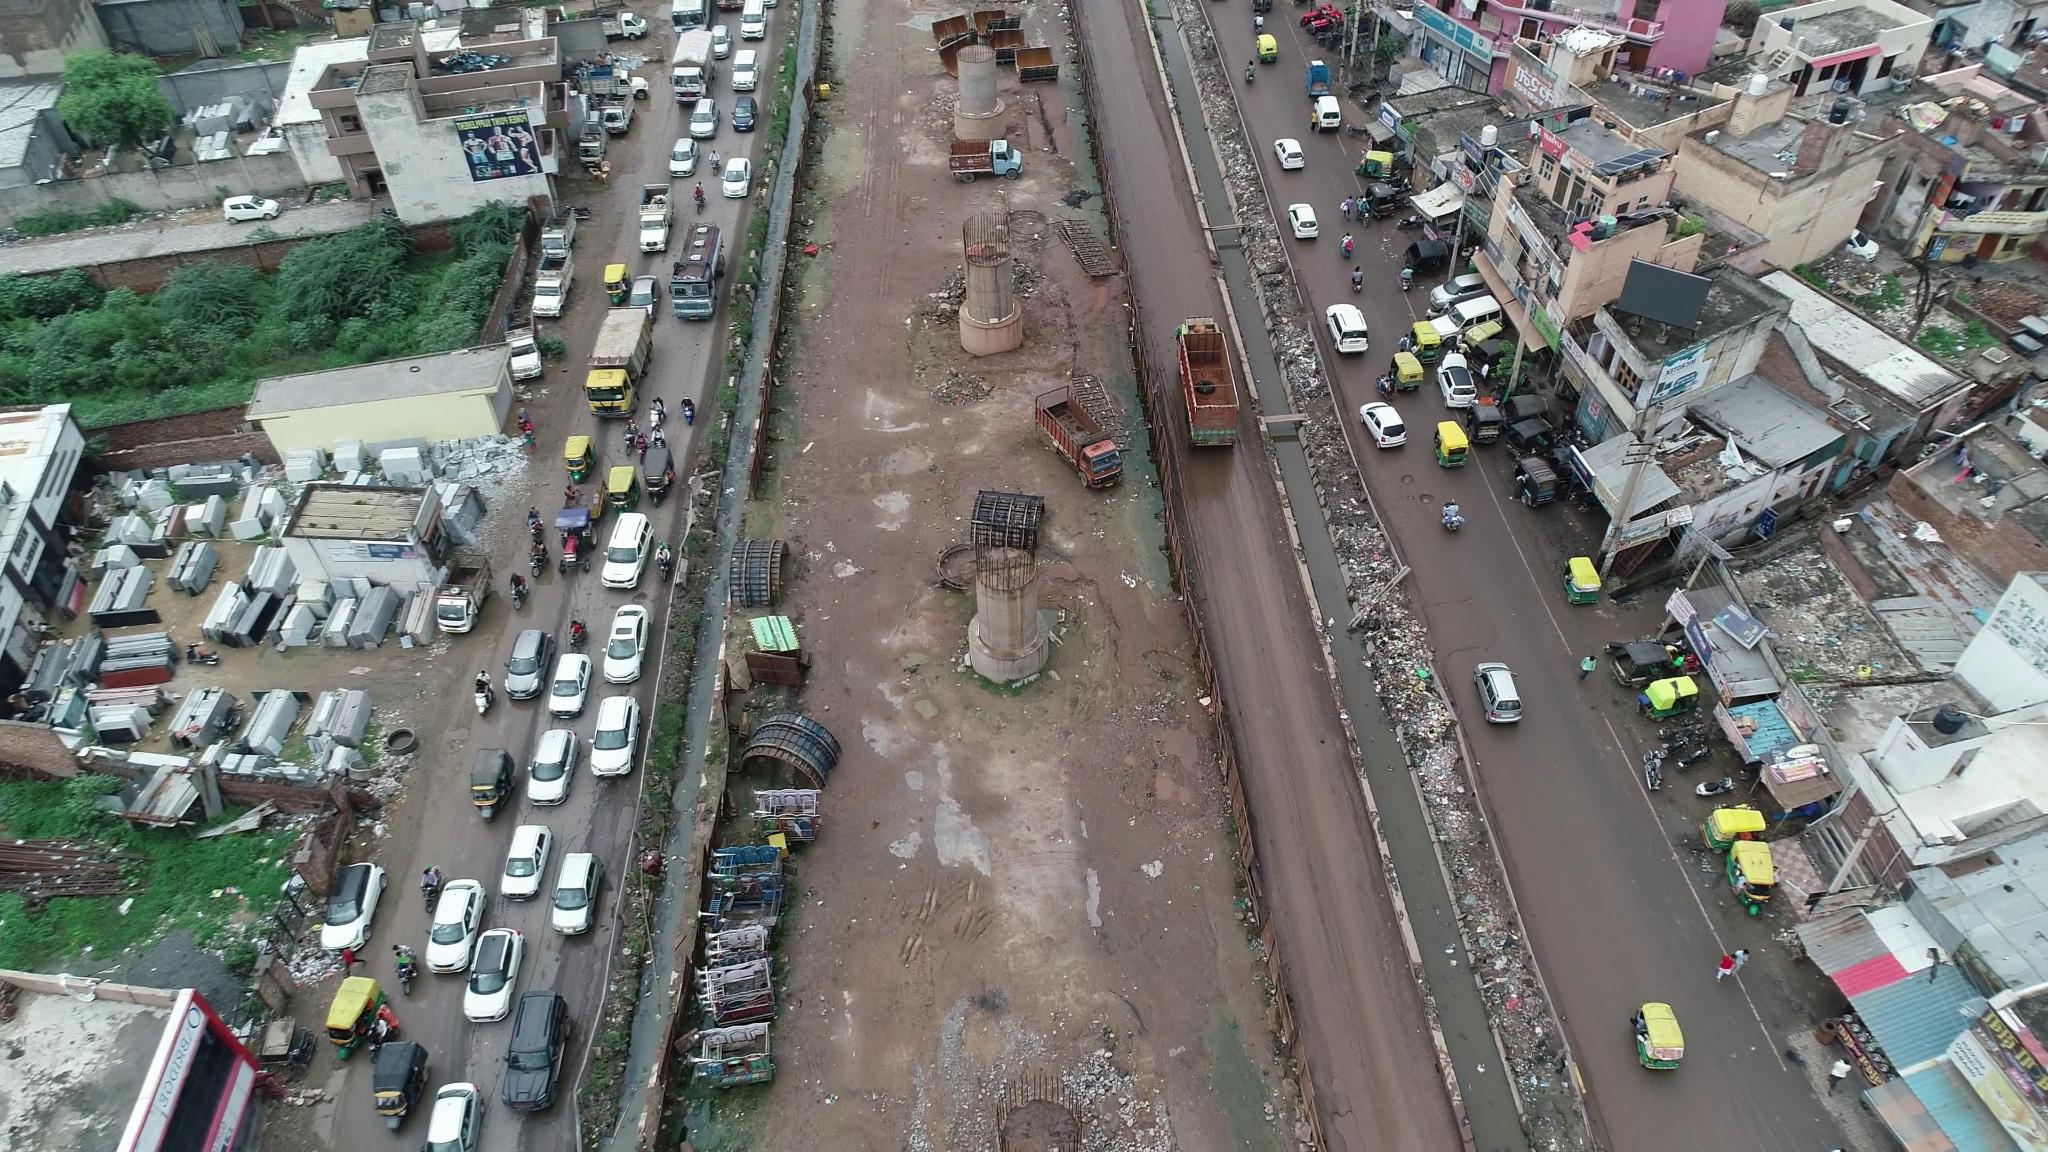Potholes: (1385, 459, 1452, 519)
